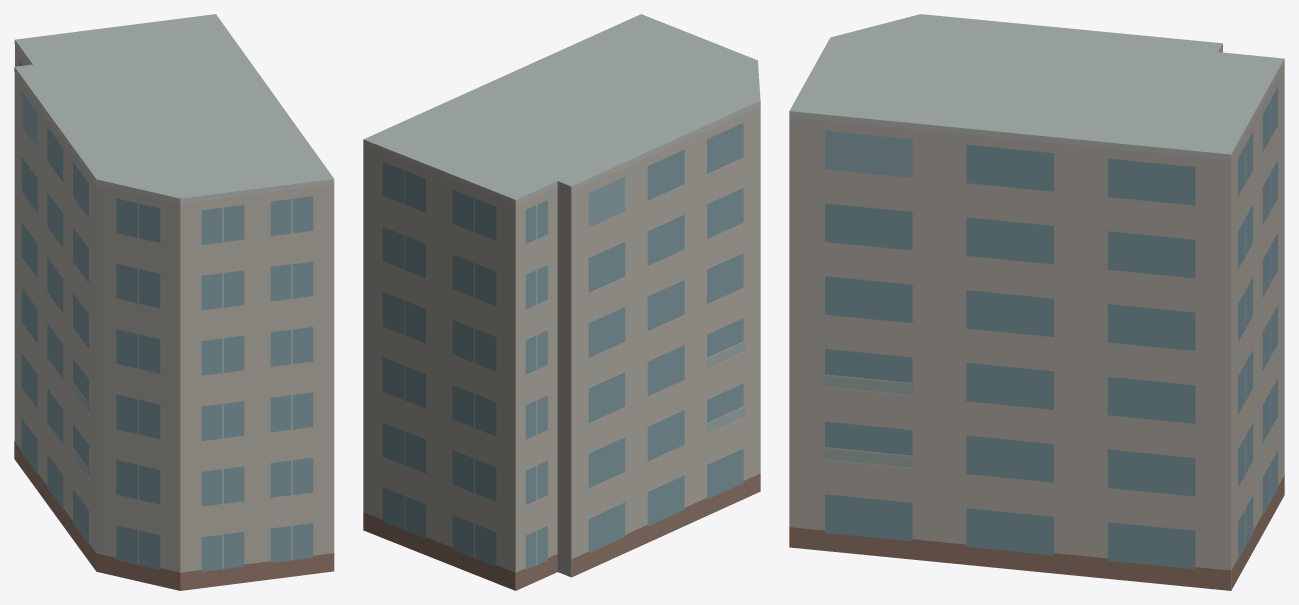
Rendered from survey-upis-32969263.glb.
The picture shows the model from 3 angles, left to right: view 1: azimuth 30°, elevation 25°; view 2: azimuth 150°, elevation 25°; view 3: azimuth 270°, elevation 25°; orthographic projection. The views are drawn at different scales.
Parts seen in each view (by area): view 1: survey-upis-32969263.tmp; view 2: survey-upis-32969263.tmp; view 3: survey-upis-32969263.tmp.
Boxes of the visible parts, box(x1,y1,x2,y2) form: survey-upis-32969263.tmp: box(14, 14, 334, 590); survey-upis-32969263.tmp: box(363, 14, 760, 590); survey-upis-32969263.tmp: box(789, 14, 1284, 590).
Bounding box in the file's own units: 12.65 × 18.3 × 18.84.
